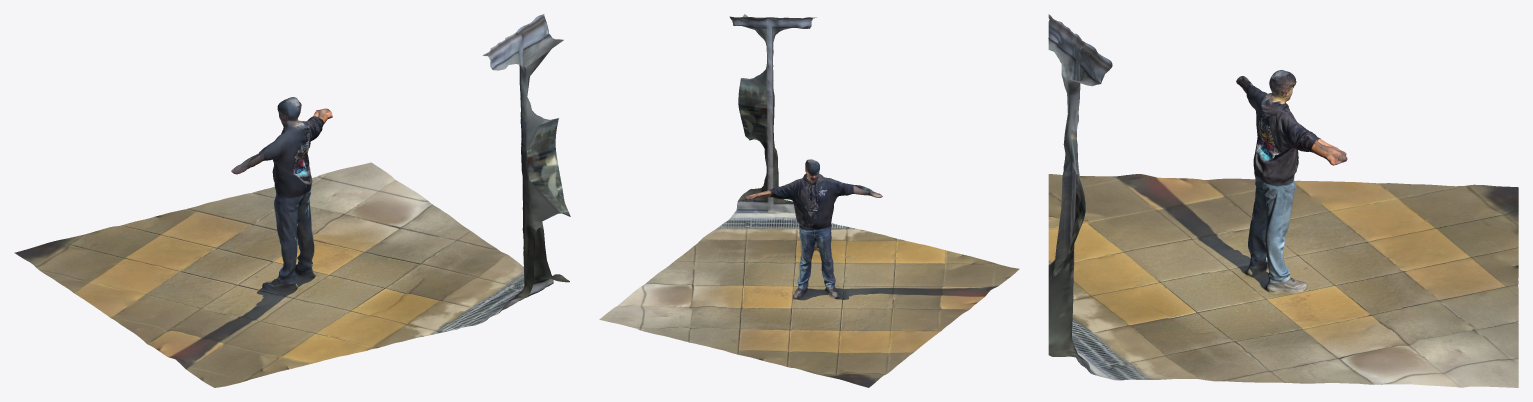
The model's file is Paya-edited.glb.
The picture shows the model from 3 angles, left to right: view 1: azimuth 30°, elevation 25°; view 2: azimuth 150°, elevation 25°; view 3: azimuth 270°, elevation 25°; orthographic projection. The views are drawn at different scales.
Visible parts, largest first — view 1: 3DModel; view 2: 3DModel; view 3: 3DModel.
Boxes of the visible parts, left/top/right/bottom form: 3DModel: left=14, top=14, right=570, bottom=387; 3DModel: left=599, top=14, right=1019, bottom=387; 3DModel: left=1048, top=14, right=1518, bottom=387.
Size of the model in its own units: 1.88 by 1.4 by 1.83.
1 material, 1 textured.
